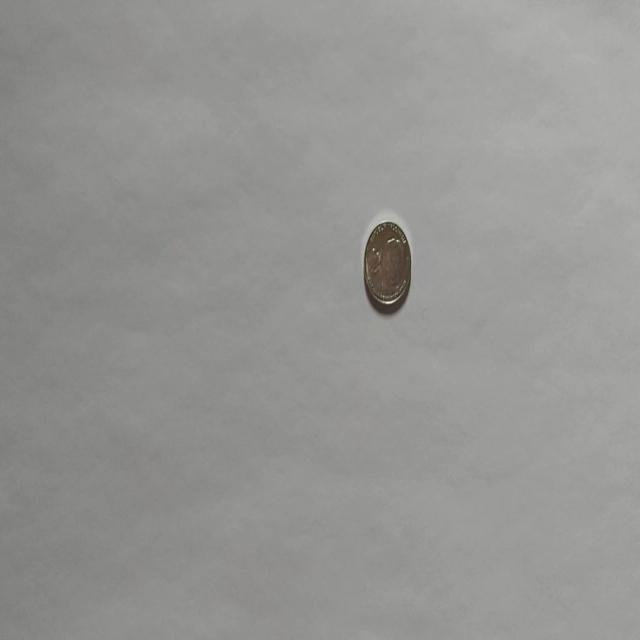seratus rupiah: (362, 218, 412, 312)
